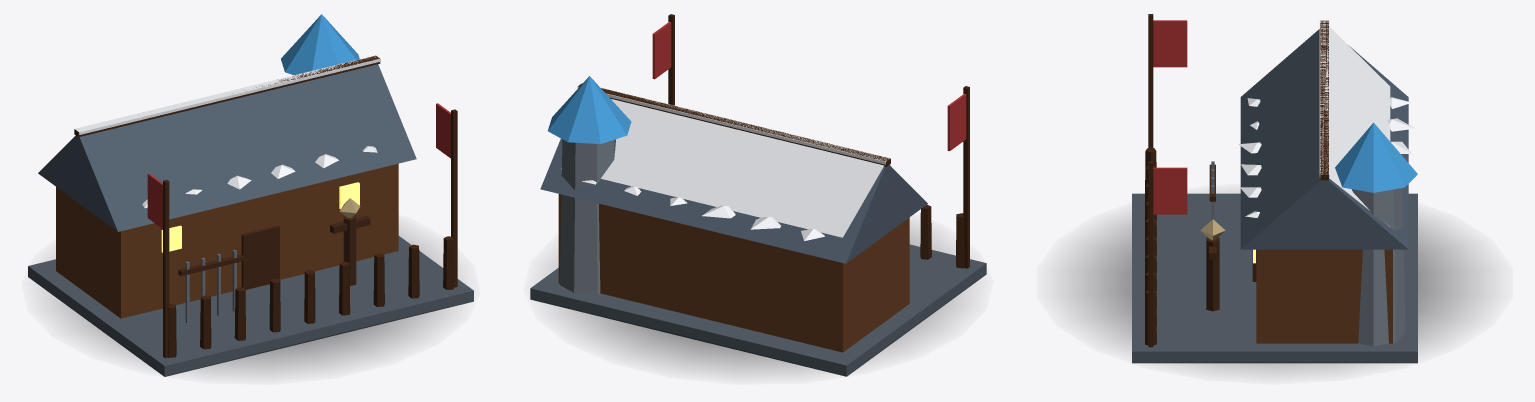
Rendered from barracks_t1.glb.
The picture shows the model from 3 angles, left to right: view 1: azimuth 30°, elevation 25°; view 2: azimuth 150°, elevation 25°; view 3: azimuth 270°, elevation 25°; orthographic projection. The views are drawn at different scales.
Visible parts, largest first — view 1: barracks_t1; view 2: barracks_t1; view 3: barracks_t1.
Boxes of the visible parts, x1,y1,x2,y2 form: barracks_t1: (28, 14, 473, 376); barracks_t1: (530, 14, 986, 376); barracks_t1: (1066, 14, 1483, 371).
Bounding box in the file's own units: 7.82 × 3.86 × 7.74.
